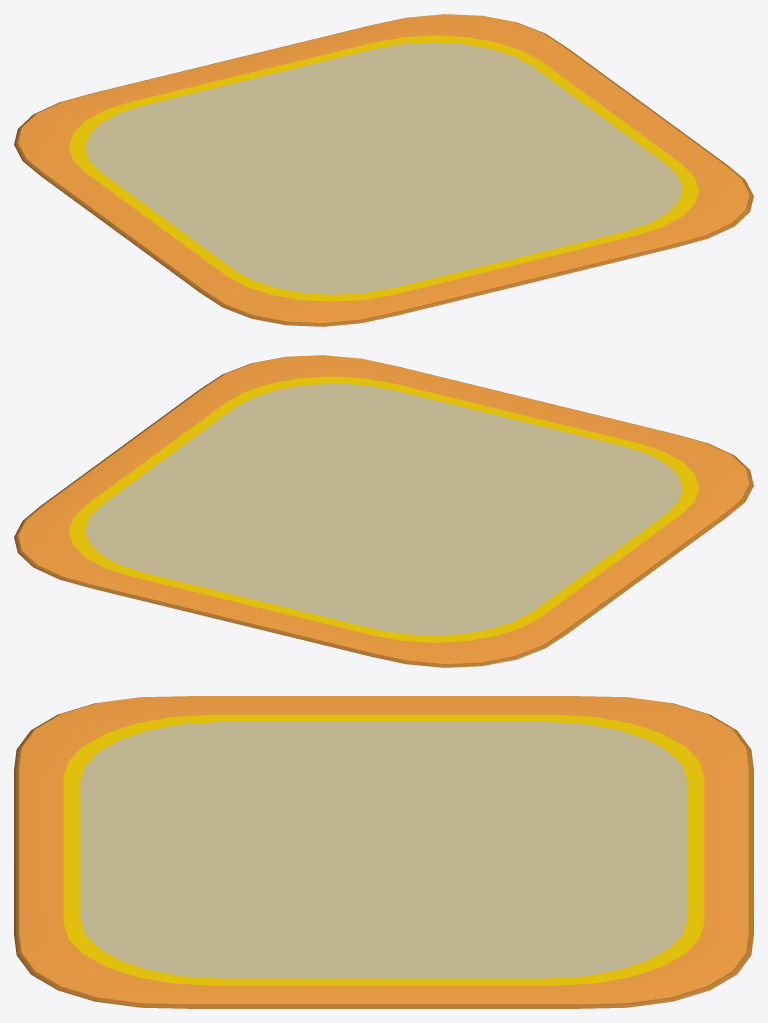
Rendered from floor_box_wheel.fbx.
The picture shows the model from 3 angles, top to bottom: view 1: azimuth 30°, elevation 25°; view 2: azimuth 150°, elevation 25°; view 3: azimuth 270°, elevation 25°; orthographic projection. The views are drawn at different scales.
Parts seen in each view (by area): view 1: floor_box_wheel; view 2: floor_box_wheel; view 3: floor_box_wheel.
Boxes of the visible parts, left/top/right/bottom form: floor_box_wheel: left=14, top=14, right=753, bottom=326; floor_box_wheel: left=14, top=355, right=753, bottom=667; floor_box_wheel: left=14, top=696, right=753, bottom=1008.
Size of the model in its own units: 509 by 1.72 by 509.
